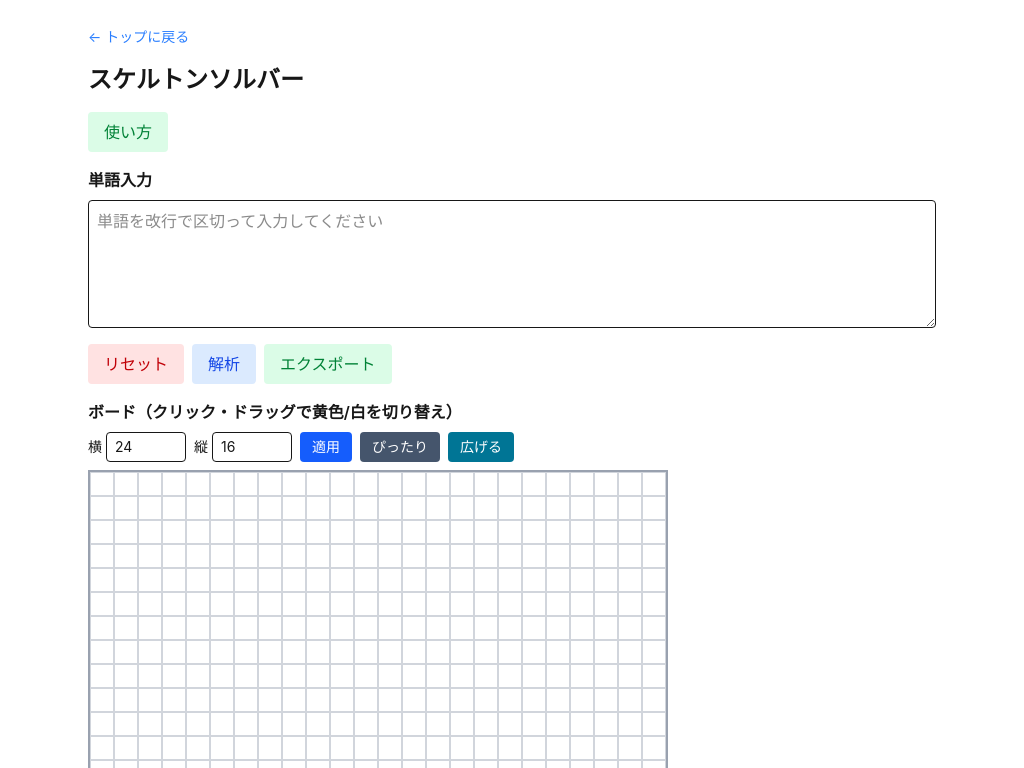
Test case: SkeletonPage UI Tests › 使い方ボタンでモーダルが開く
Click the button "使い方".
click(128, 132)  # box 88,112 -> 168,152
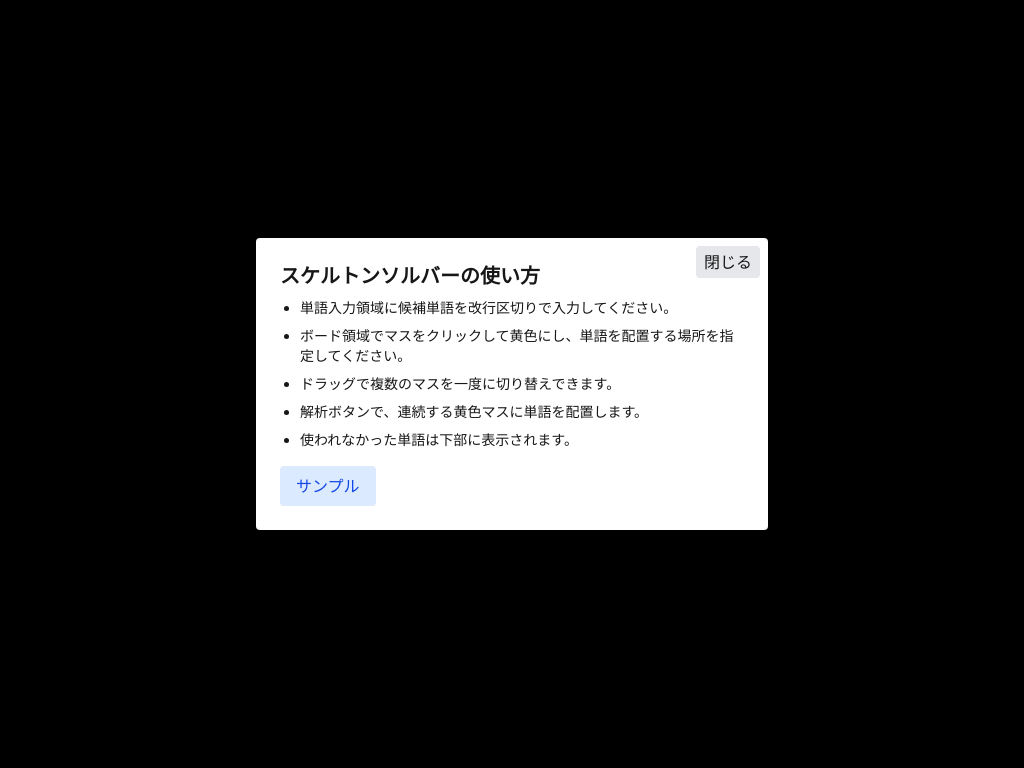
Expected: the heading "スケルトンソルバーの使い方" is shown, 280,264 -> 540,288
